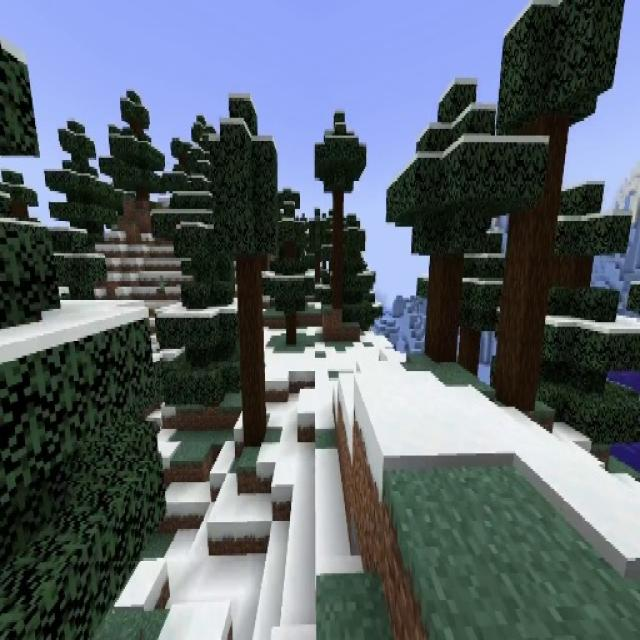spruce: (486, 0, 622, 440), (386, 80, 540, 372), (210, 93, 281, 447), (312, 110, 372, 305), (272, 194, 314, 346)
spruce_log: (498, 216, 552, 410), (237, 261, 264, 441), (427, 254, 462, 364), (333, 192, 344, 306), (460, 332, 480, 372), (286, 312, 296, 344)
